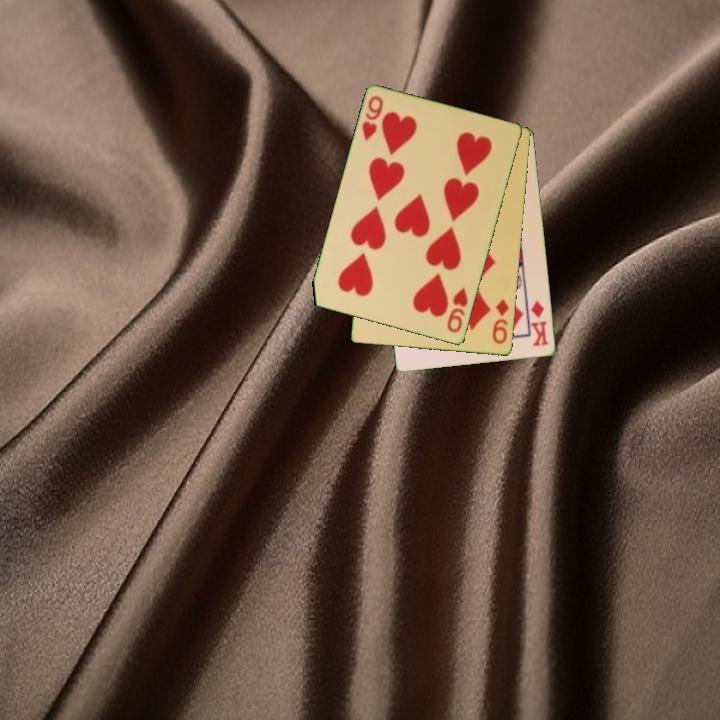9d: (489, 296, 512, 347)
9h: (444, 284, 471, 336), (359, 92, 386, 144)
Kd: (527, 297, 552, 350)
